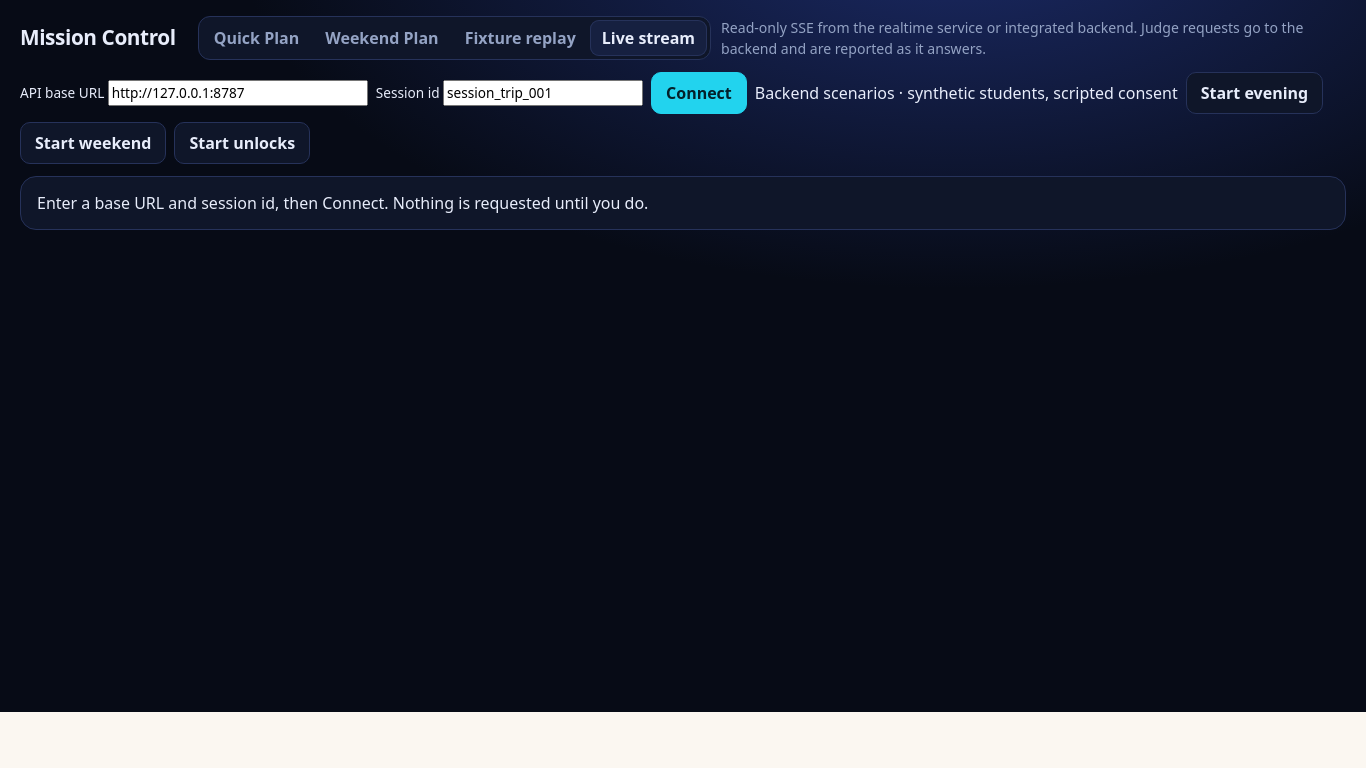
Test: attach to an existing Discord session › identifies which input failed before attempting a connection
Replace the text in the field labelled "Session id" with "session with spaces": [543, 93] box [443,80,643,106]
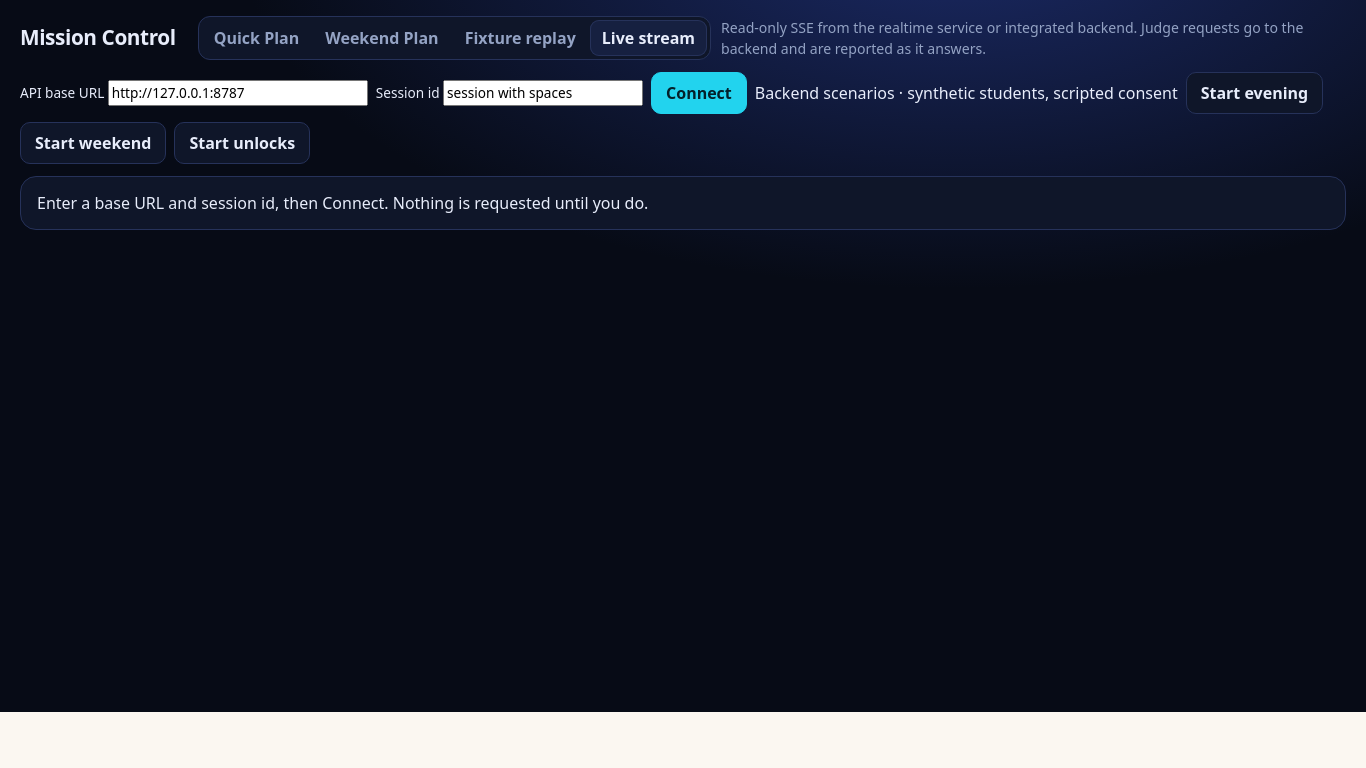
Click the button "Connect": [699, 93] box [651,72,747,114]
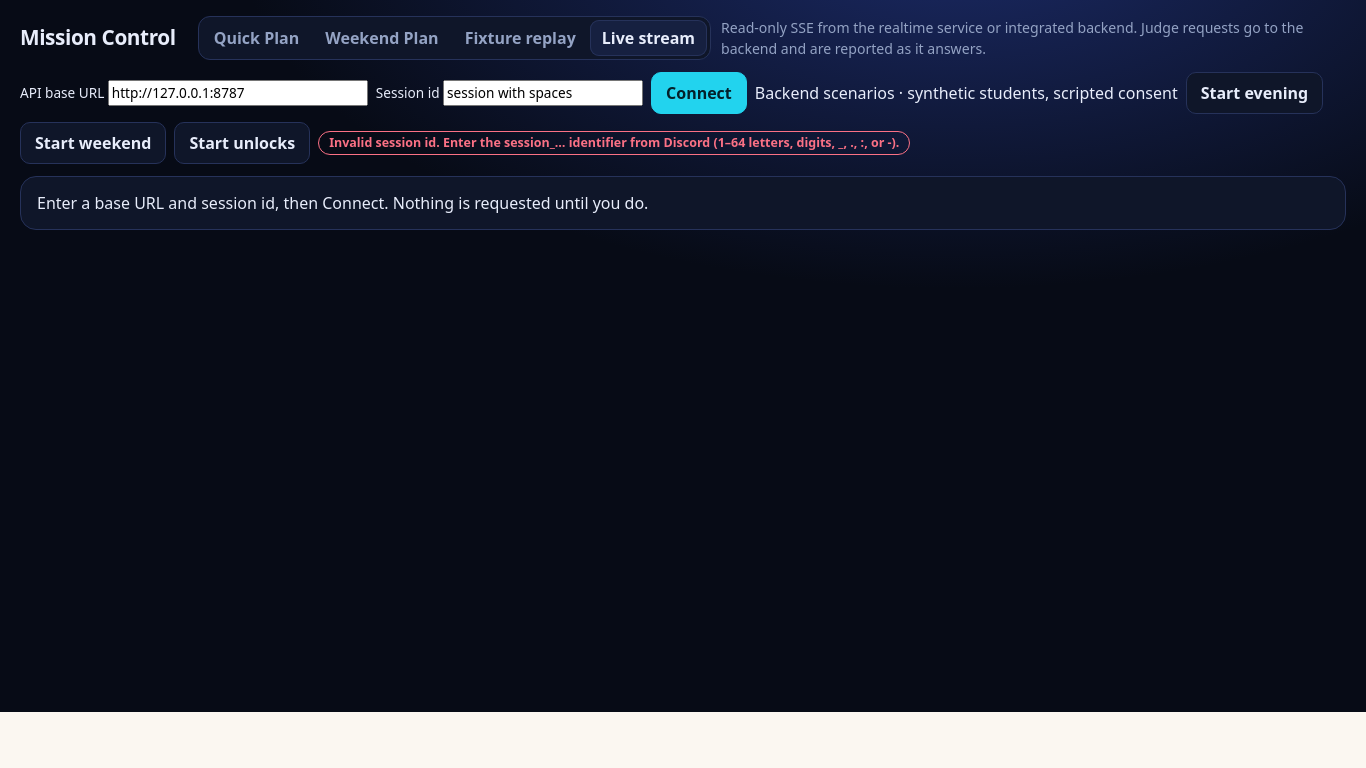
Expected: the message shows "Invalid session id.", [329,134,899,151]
Replace the text in the field labelled "API base URL" with "invalid": [238, 93] box [108,80,368,106]
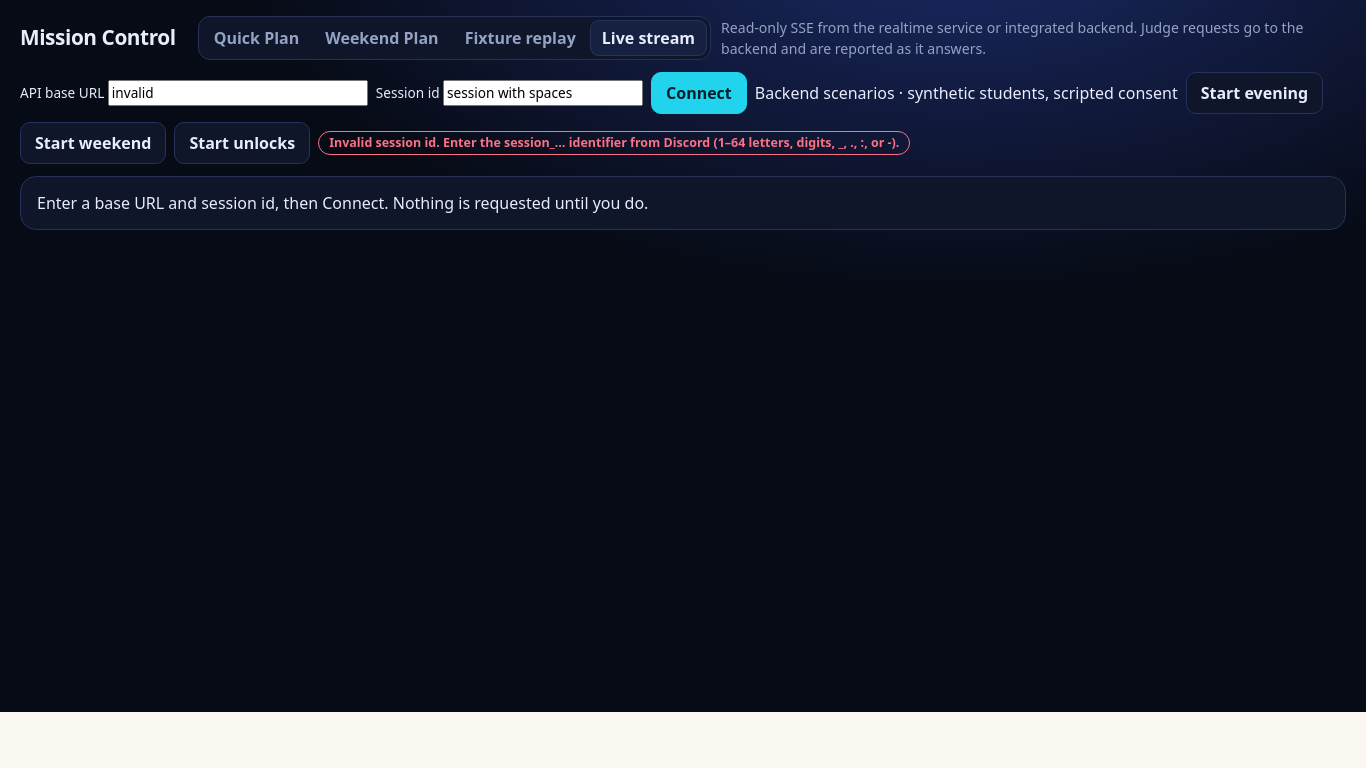
Click the button "Connect": [699, 93] box [651,72,747,114]
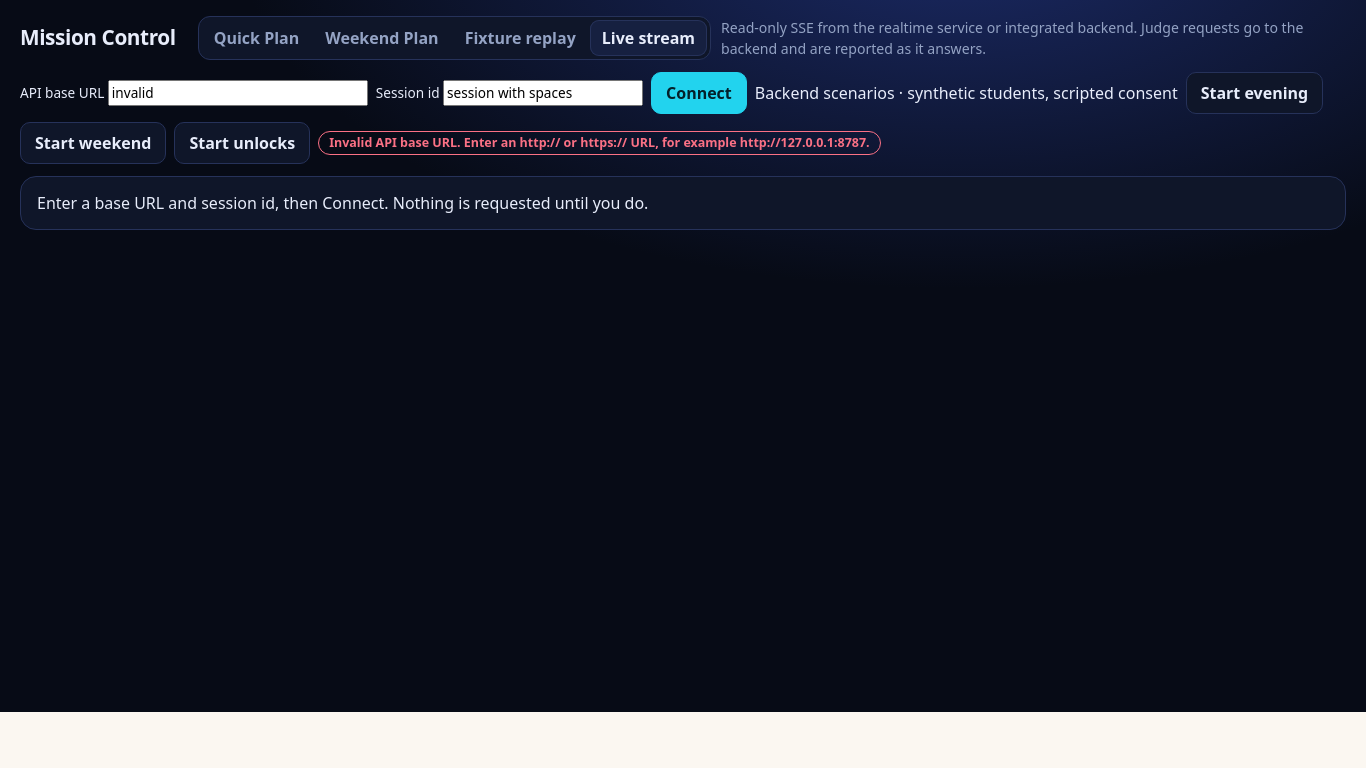
Expected: the message shows "Invalid API base URL.", [329,134,870,151]
